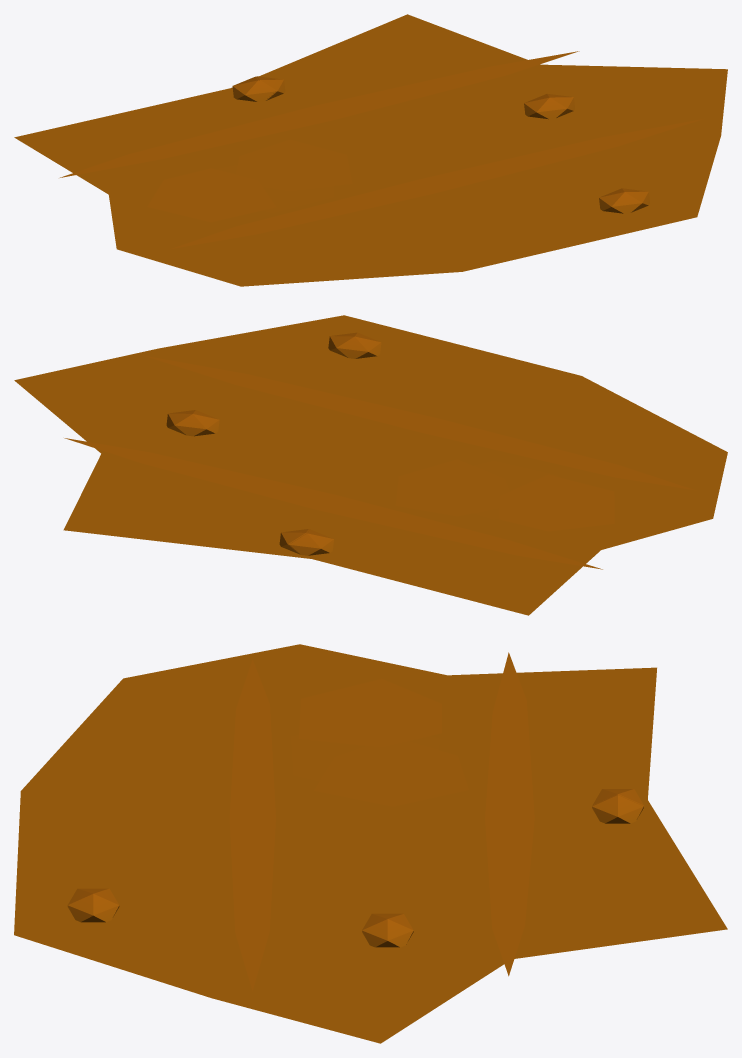
Rendered from SM_Nature_Boue_A.fbx.
3 renders of one model, top to bottom at view 1: azimuth 30°, elevation 25°; view 2: azimuth 150°, elevation 25°; view 3: azimuth 270°, elevation 25°, orthographic. The views are drawn at different scales.
Visible parts, largest first — view 1: SM_Nature_Boue_A_LOD0; view 2: SM_Nature_Boue_A_LOD0; view 3: SM_Nature_Boue_A_LOD0.
Boxes of the visible parts, x1,y1,x2,y2 form: SM_Nature_Boue_A_LOD0: [14, 14, 727, 286]; SM_Nature_Boue_A_LOD0: [14, 315, 727, 615]; SM_Nature_Boue_A_LOD0: [14, 644, 727, 1043].
Size of what is drawn, in the model's own units: 1.55 by 0.045 by 1.17.
